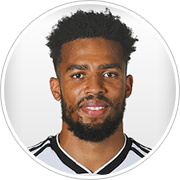face: (47, 48, 134, 131)
